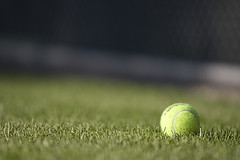tennis ball: (158, 102, 201, 137)
